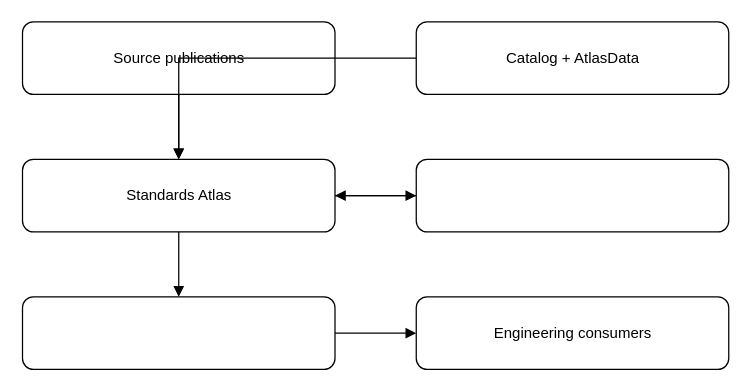
This 750x391 diagram has some shape labels left out. The centre of each missing label's shape, as x and y in pixels:
"Human reviewer" goes at (572,195).
"Markdown / Doorstop" goes at (178,332).
